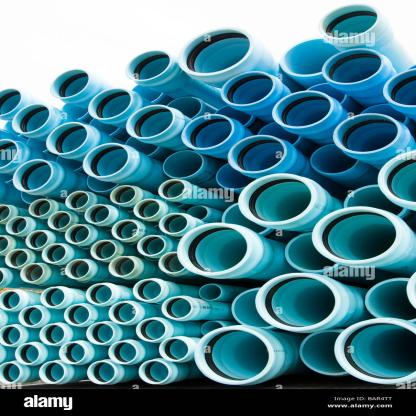PVC: (2, 4, 416, 388)
